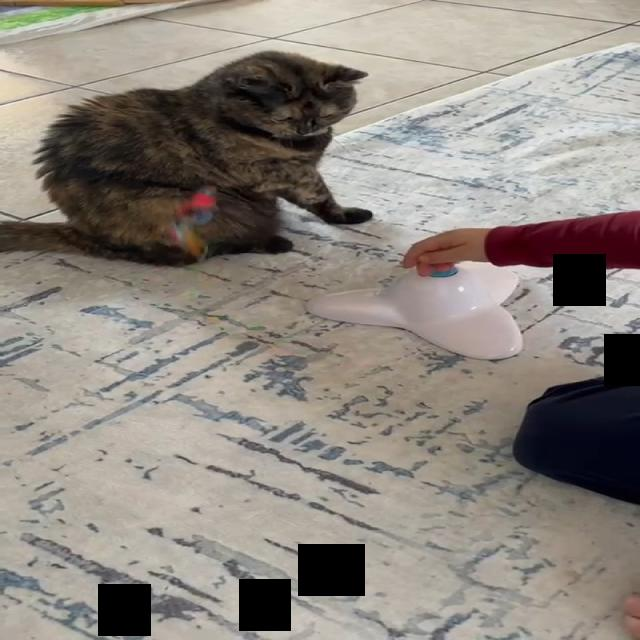authorized: (0, 49, 373, 267)
